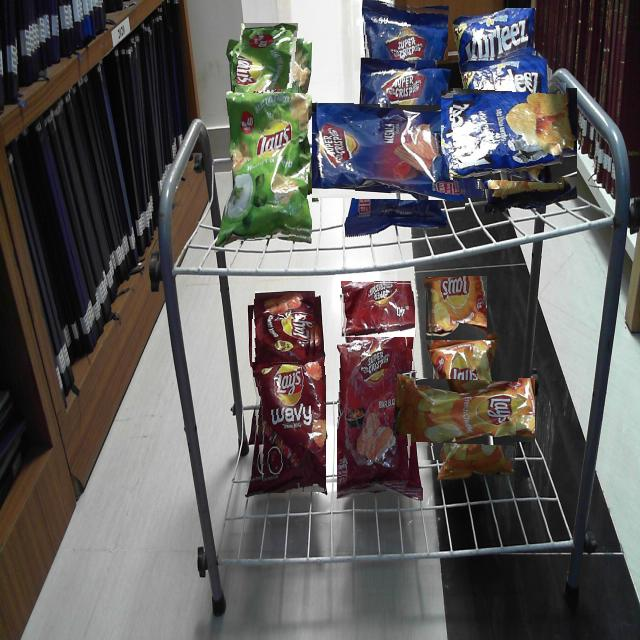Plastic: (331, 83, 465, 217), (223, 93, 312, 242), (337, 337, 420, 496), (453, 76, 566, 189), (250, 362, 326, 493), (418, 361, 518, 460), (233, 30, 305, 102), (362, 1, 448, 60), (252, 294, 319, 362), (340, 280, 415, 338), (454, 8, 535, 61), (425, 276, 487, 340)
